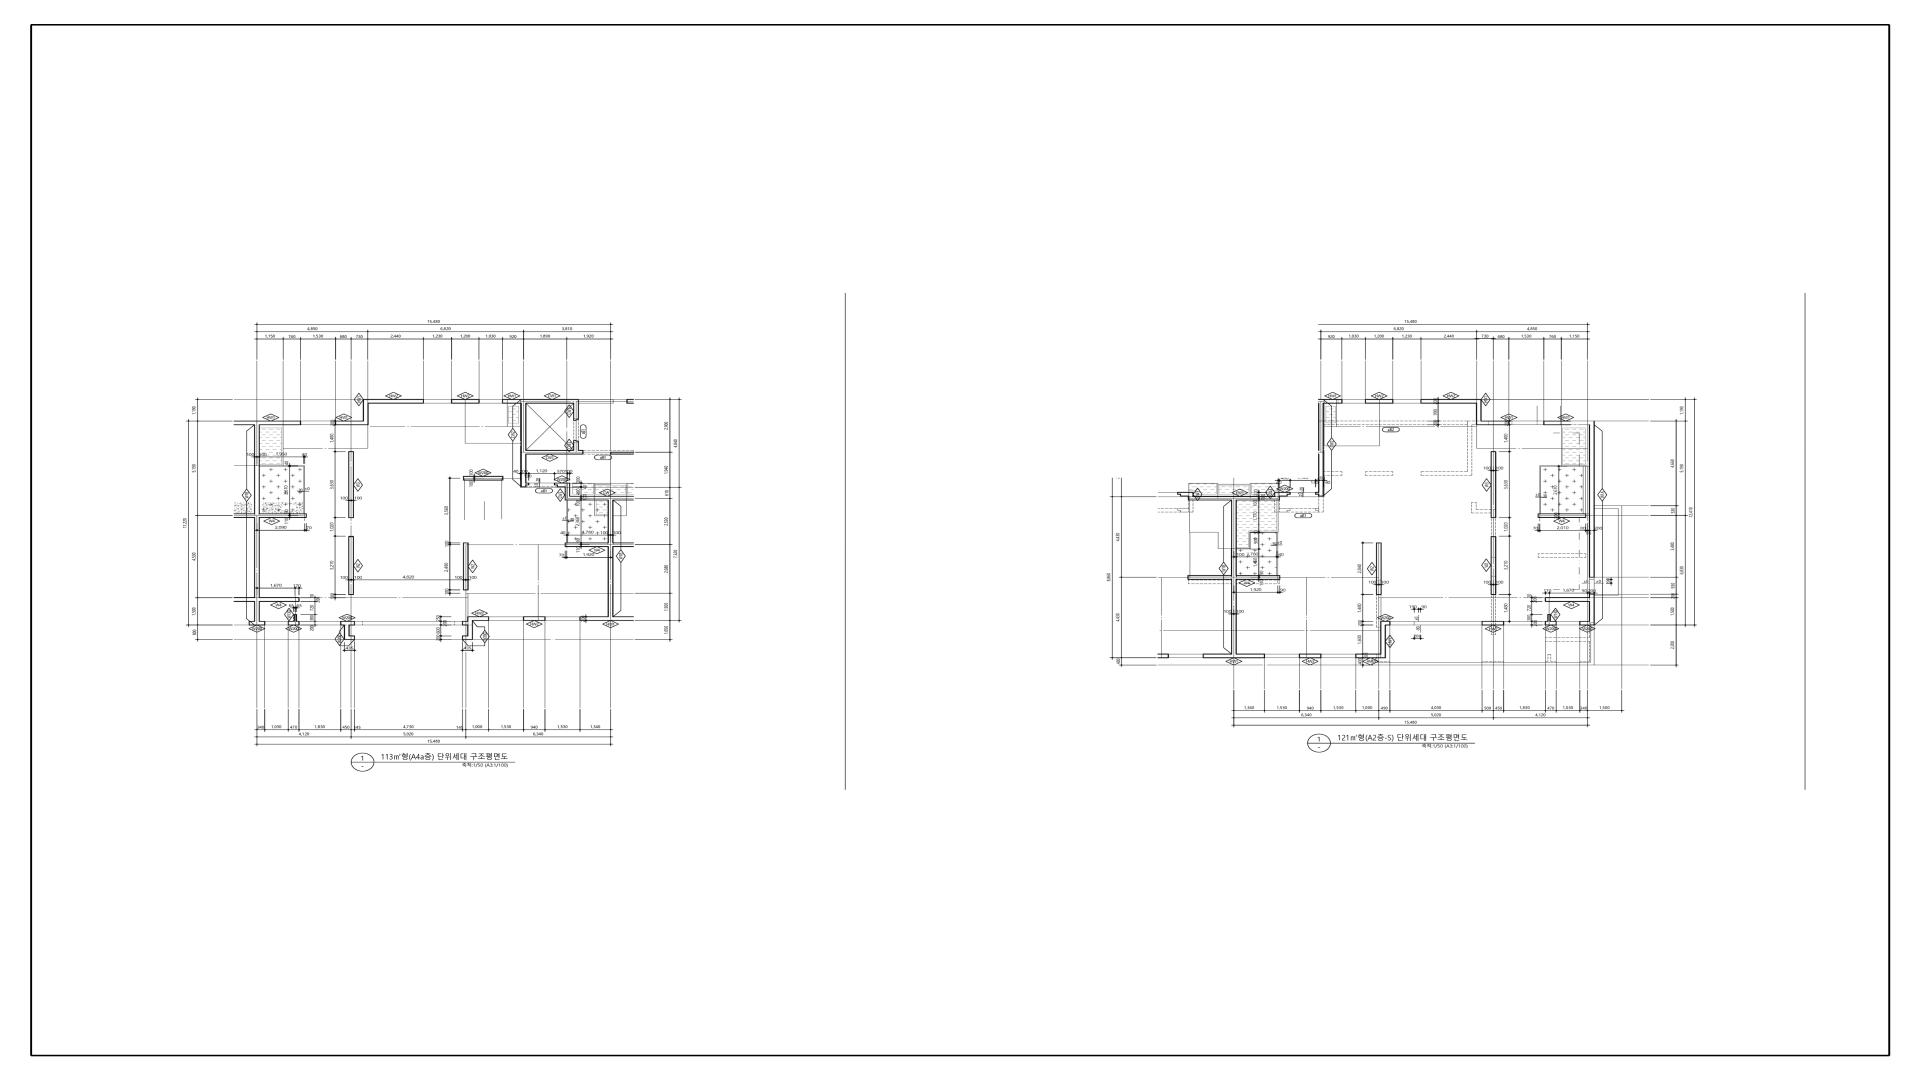wall: (1375, 662, 1594, 666), (1589, 425, 1594, 578), (1319, 404, 1324, 496), (255, 425, 260, 513), (255, 518, 260, 597), (1232, 500, 1237, 575), (1232, 580, 1237, 654), (1490, 537, 1497, 595), (608, 547, 613, 616), (348, 451, 353, 518), (1491, 451, 1497, 518), (1375, 542, 1382, 595), (348, 537, 353, 595), (526, 450, 583, 455), (463, 542, 468, 591), (1545, 597, 1594, 603), (1538, 513, 1586, 518), (260, 513, 307, 518), (1420, 400, 1482, 404), (521, 404, 526, 450), (1187, 575, 1232, 580), (564, 542, 608, 547), (564, 496, 608, 501), (1237, 575, 1280, 580), (368, 400, 425, 404), (608, 500, 613, 542), (260, 597, 299, 603), (526, 400, 579, 404), (1193, 496, 1232, 501), (1544, 421, 1594, 425), (1237, 496, 1274, 501), (521, 455, 526, 487), (363, 400, 369, 425), (260, 421, 301, 425), (463, 476, 504, 480), (1381, 625, 1386, 654), (580, 616, 608, 621), (1590, 625, 1594, 662), (1476, 421, 1510, 425), (1356, 654, 1386, 658), (467, 616, 489, 621), (524, 616, 546, 621), (451, 400, 480, 404), (1203, 654, 1232, 658), (1365, 400, 1394, 404), (1476, 404, 1482, 421), (233, 513, 255, 518), (233, 597, 255, 603), (613, 616, 634, 621), (613, 542, 634, 547), (613, 496, 634, 501), (335, 421, 363, 425), (1237, 654, 1265, 658), (255, 601, 260, 621), (1589, 603, 1594, 621), (467, 621, 473, 636), (574, 404, 579, 421), (1299, 654, 1321, 658), (1482, 621, 1505, 625), (233, 421, 255, 425), (502, 400, 521, 404), (1324, 400, 1342, 404), (564, 483, 570, 496), (249, 621, 265, 625), (611, 452, 634, 455), (1274, 492, 1280, 501), (340, 621, 355, 625), (1580, 621, 1594, 625), (344, 625, 349, 636), (554, 483, 564, 488), (574, 440, 579, 450), (1188, 492, 1193, 501), (287, 621, 299, 625), (462, 636, 473, 640), (1545, 621, 1557, 625), (344, 636, 355, 640), (1178, 492, 1188, 496), (1280, 492, 1291, 496), (1158, 654, 1168, 658), (1381, 621, 1390, 625), (626, 400, 634, 404), (1371, 658, 1375, 666), (255, 513, 260, 518), (608, 616, 613, 621), (608, 542, 613, 547), (608, 496, 613, 501), (521, 450, 526, 455), (1232, 496, 1237, 501), (1232, 575, 1237, 580), (1547, 615, 1551, 621), (255, 421, 260, 425), (255, 597, 260, 601), (462, 621, 467, 625), (1232, 654, 1237, 658), (1589, 593, 1594, 597), (1319, 400, 1324, 404), (294, 615, 297, 621), (1315, 492, 1319, 495), (526, 483, 529, 485)
